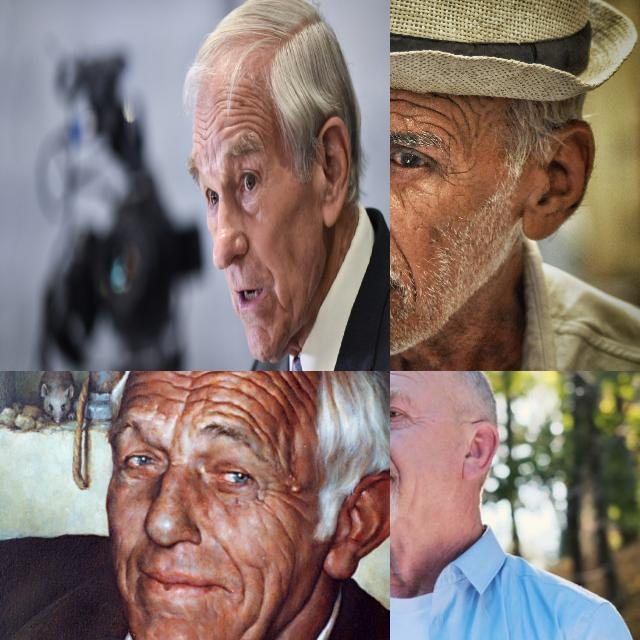crows_feet: (254, 474, 294, 520), (438, 157, 474, 197), (406, 411, 424, 424)
forehead: (390, 90, 444, 132), (226, 382, 268, 428), (147, 371, 185, 411), (279, 376, 315, 416), (450, 93, 484, 129), (189, 371, 223, 403), (232, 87, 247, 131), (250, 100, 268, 135), (197, 112, 211, 150), (210, 89, 226, 121), (390, 371, 407, 382), (411, 371, 425, 381)
gummy_smile: (390, 221, 415, 273), (219, 544, 247, 588), (118, 546, 138, 592), (266, 265, 279, 287), (390, 443, 398, 473)
masseter: (242, 569, 278, 639), (278, 295, 297, 323)
